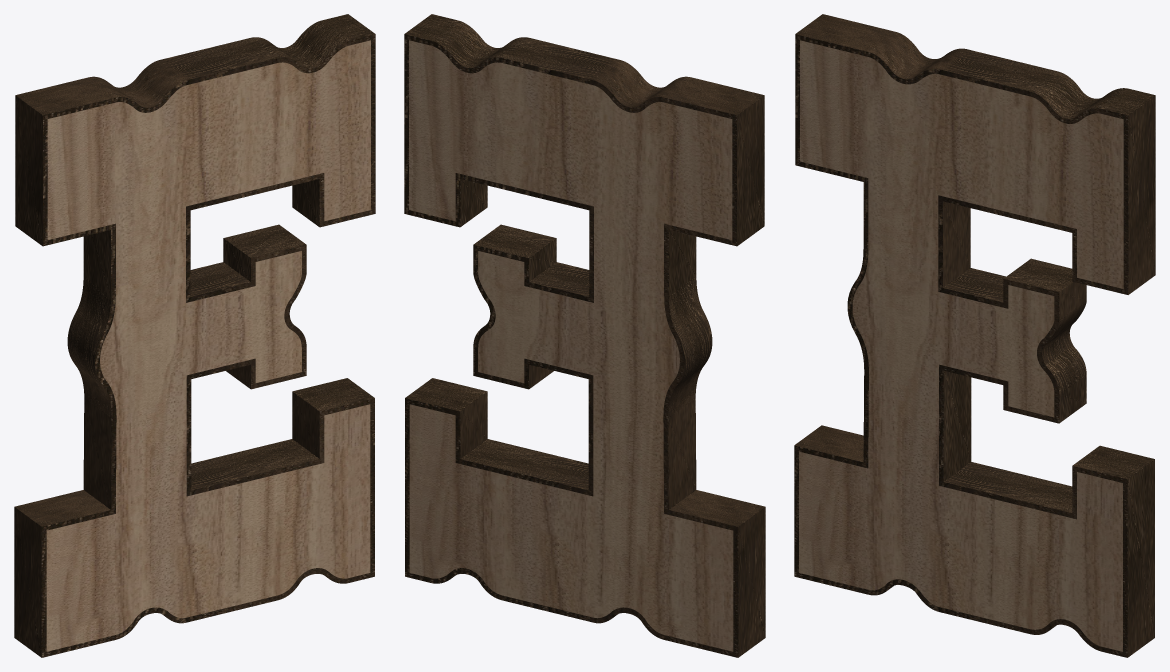
The picture shows the model from 3 angles, left to right: view 1: azimuth 30°, elevation 25°; view 2: azimuth 150°, elevation 25°; view 3: azimuth 330°, elevation 25°; orthographic projection.
Parts seen in each view (by area): view 1: E, E_outline; view 2: E, E_outline; view 3: E, E_outline.
Part boxes in pixels (x1,y1,x2,y2): E: (46,40,370,651); E_outline: (14,14,375,657); E: (409,40,733,651); E_outline: (404,14,765,657); E: (799,40,1123,651); E_outline: (794,14,1155,657).
Bounding box in the file's own units: 70.1 × 109 × 10.
Materials: 2 (2 with a texture image).
